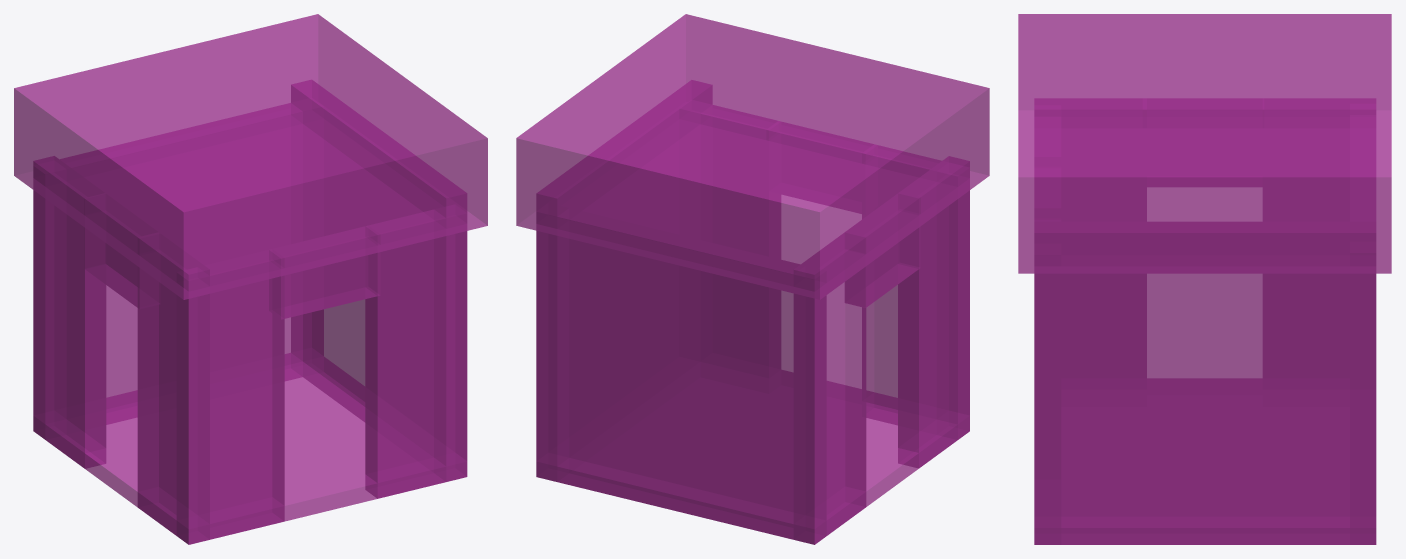
The model's file is SM_Bld_Tower_02_Collision.fbx.
The picture shows the model from 3 angles, left to right: view 1: azimuth 30°, elevation 25°; view 2: azimuth 150°, elevation 25°; view 3: azimuth 270°, elevation 25°; orthographic projection. The views are drawn at different scales.
Parts seen in each view (by area): view 1: SM_Bld_Tower_02_Collision; view 2: SM_Bld_Tower_02_Collision; view 3: SM_Bld_Tower_02_Collision.
Boxes of the visible parts, <box> form: SM_Bld_Tower_02_Collision: <box>14,14,487,544</box>; SM_Bld_Tower_02_Collision: <box>516,14,989,544</box>; SM_Bld_Tower_02_Collision: <box>1018,14,1391,544</box>.
Size of the model in its own units: 332 by 355 by 321.
